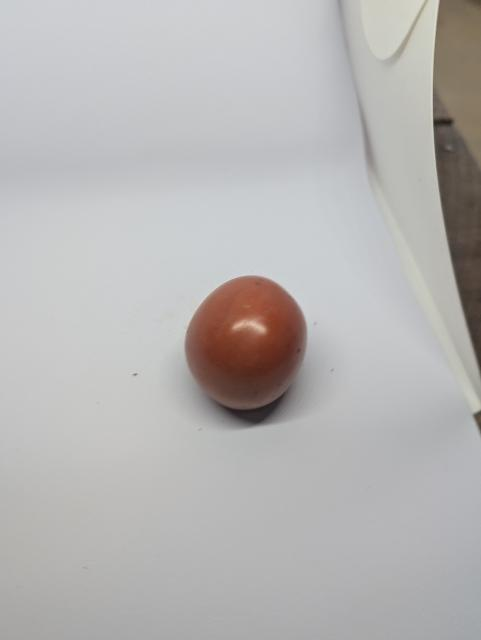red: (182, 272, 313, 421)
